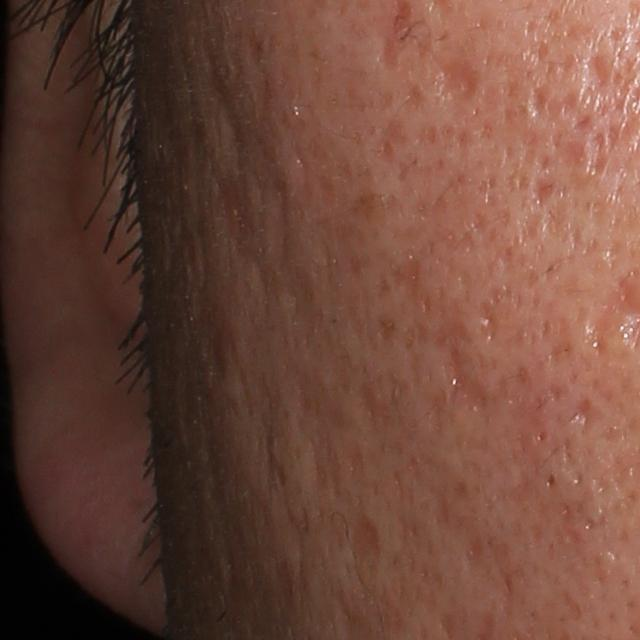atrophic_scar: (427, 56, 488, 120), (442, 352, 491, 414), (364, 121, 406, 165), (574, 393, 610, 438), (525, 86, 567, 121), (352, 514, 381, 562), (512, 211, 544, 246), (591, 133, 615, 178), (586, 49, 609, 89), (560, 136, 587, 169), (401, 76, 424, 112), (478, 303, 497, 341), (530, 177, 555, 203), (559, 438, 575, 465), (545, 471, 556, 490)
